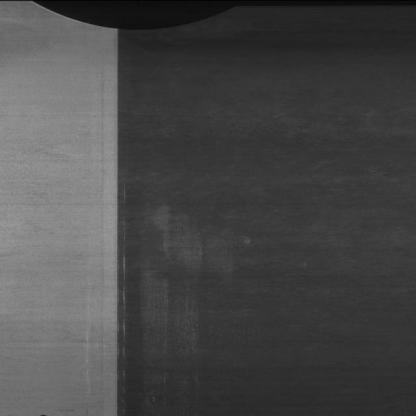punching_hole: (34, 413, 58, 416)
welding_line: (93, 17, 134, 416)
